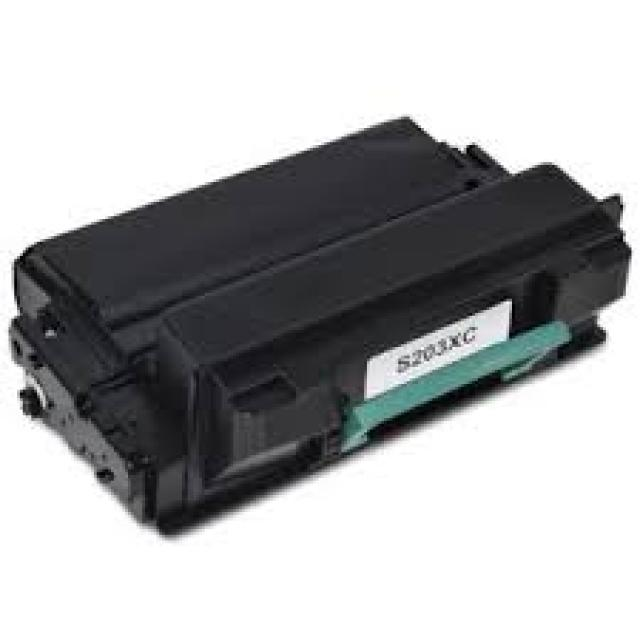printer: (14, 110, 632, 540)
